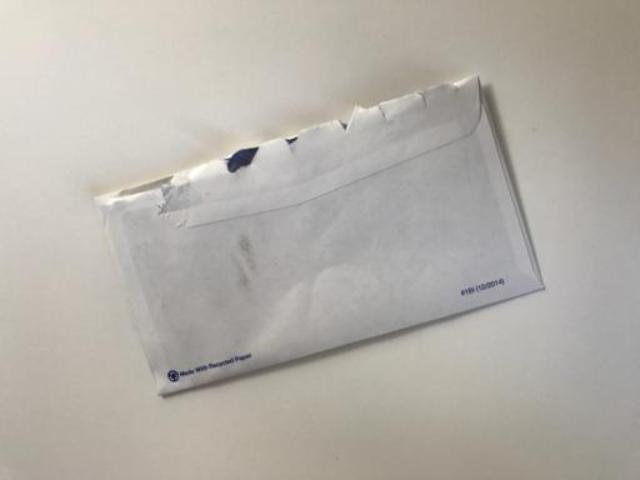cardboard paper: (95, 74, 541, 392)
